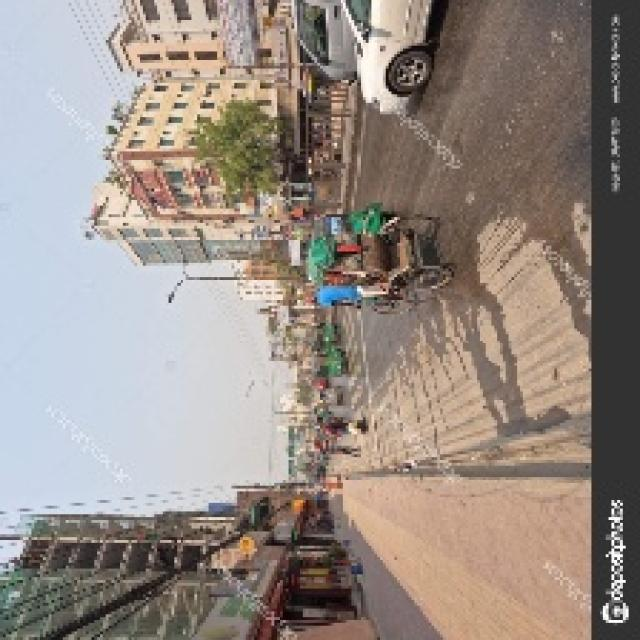car: (325, 6, 440, 116)
rickshaw: (302, 204, 452, 320)
